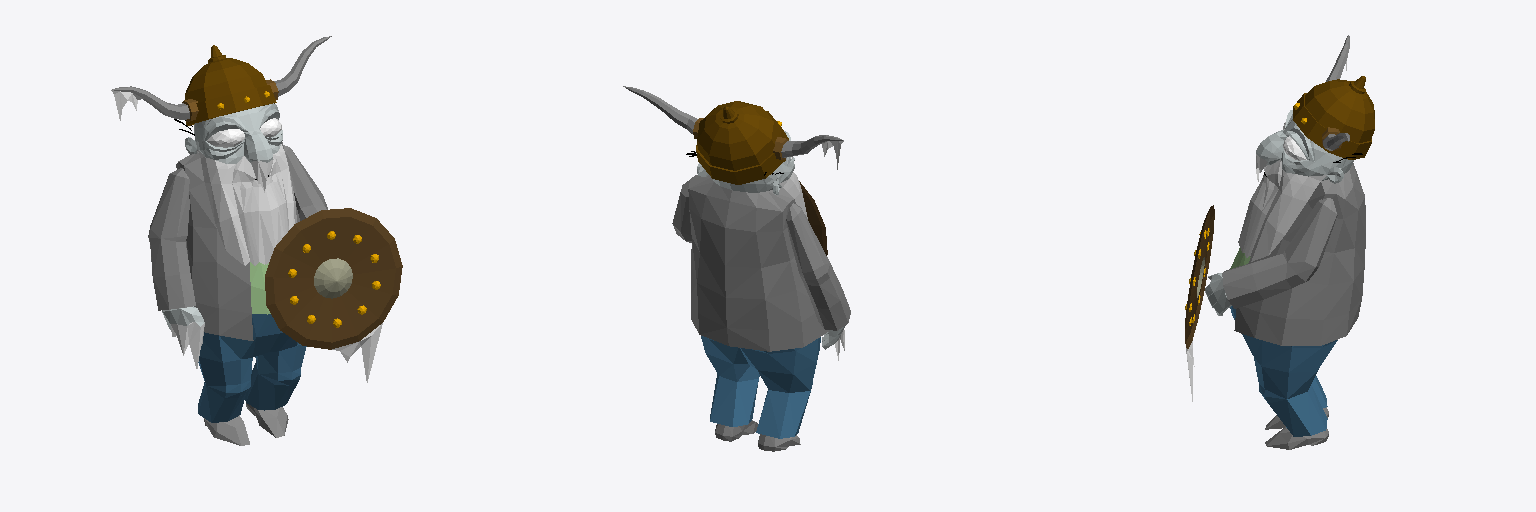
3 views of the same model, side by side, from view 1: azimuth 30°, elevation 25°; view 2: azimuth 150°, elevation 25°; view 3: azimuth 270°, elevation 25° (orthographic).
Parts seen in each view (by area): view 1: object 1, 6; view 2: object 1; view 3: object 1.
Boxes of the visible parts, box(x1,y1,x2,y2) form: object 1: box(111, 36, 402, 445); 6: box(207, 118, 281, 147); object 1: box(623, 86, 850, 451); object 1: box(1185, 35, 1374, 449).
Size of the model in its own units: 1.12 by 1.74 by 0.8353.
2 materials, 1 textured.